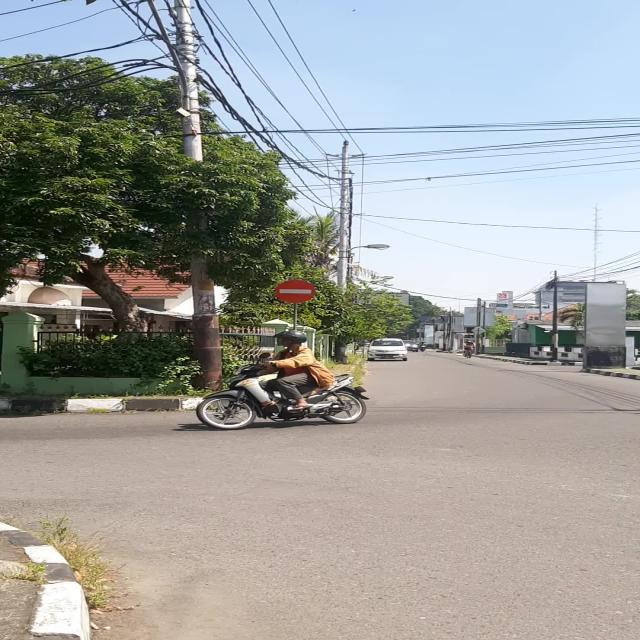Dilarang Masuk: (275, 280, 316, 304)
